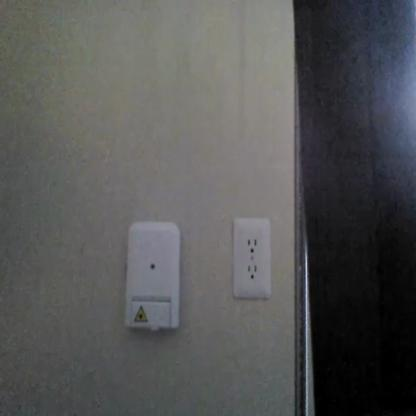OUTLET: (232, 218, 272, 299)
